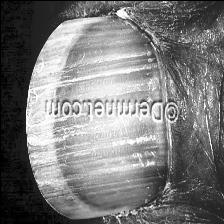Toxin: (24, 121, 107, 218), (33, 18, 94, 96)
